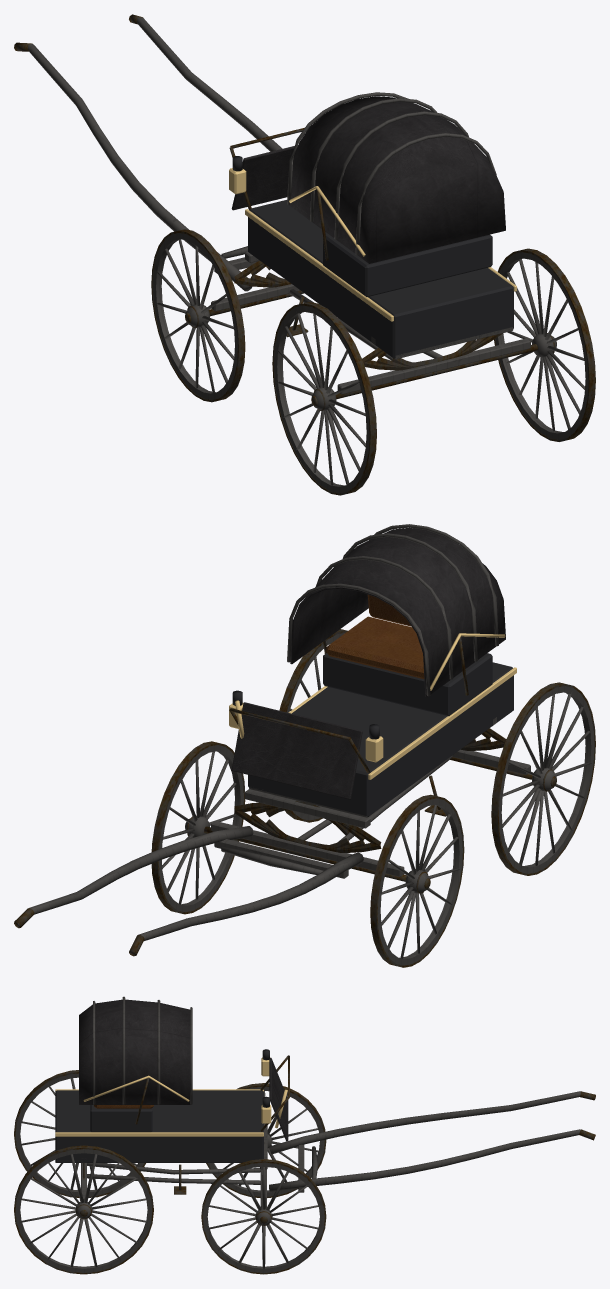
File: carriage_buggy.glb
3 renders of one model, top to bottom at view 1: azimuth 30°, elevation 25°; view 2: azimuth 150°, elevation 25°; view 3: azimuth 270°, elevation 25°, orthographic. The views are drawn at different scales.
Parts seen in each view (by area): view 1: carriage_buggy; view 2: carriage_buggy; view 3: carriage_buggy.
Boxes of the visible parts, x1,y1,x2,y2 form: carriage_buggy: (14, 14, 595, 495); carriage_buggy: (14, 524, 595, 967); carriage_buggy: (14, 996, 595, 1274).
Size of the model in its own units: 1.59 by 2.05 by 4.66.
6 materials, 4 textured.
